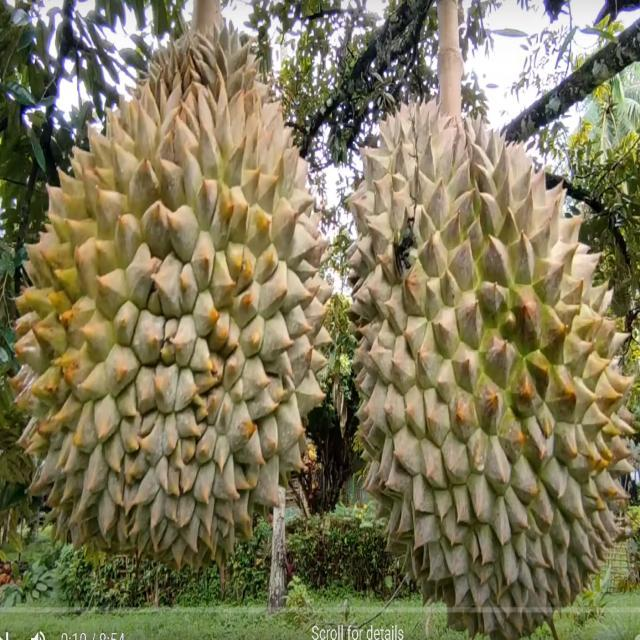immature: (8, 29, 334, 579), (344, 96, 634, 604)
